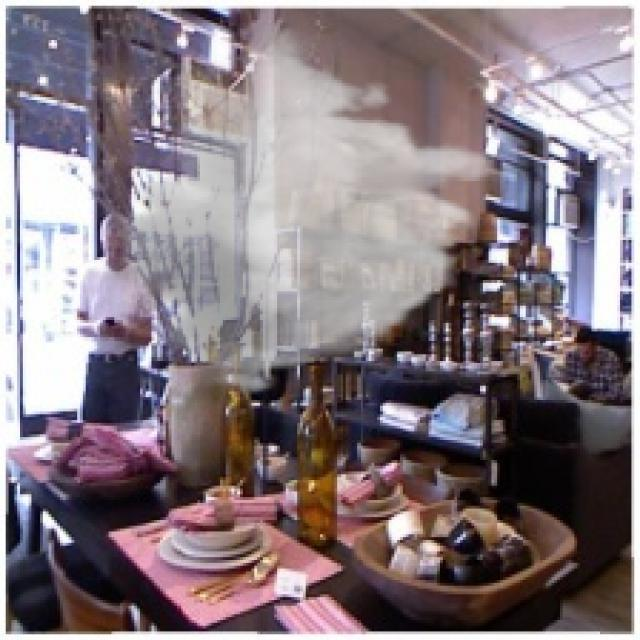Smoke: (97, 22, 506, 398)
